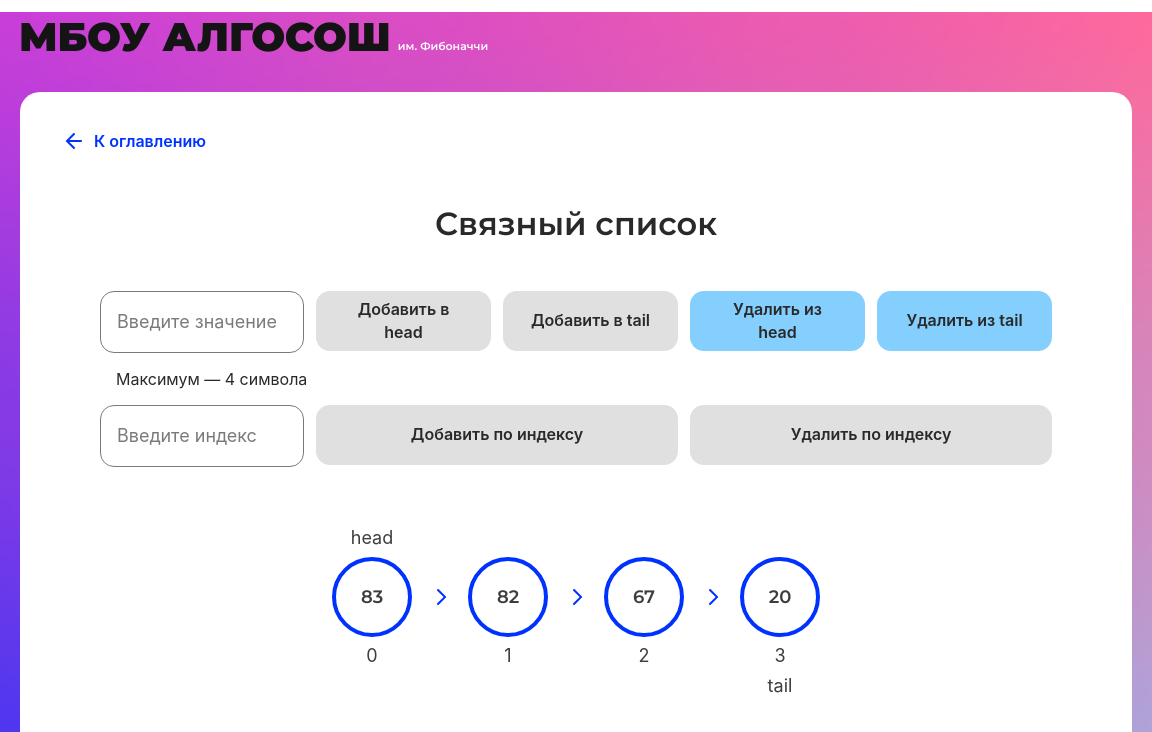
Test case: list › add element to head
Expected: the heading "Связный список" is shown, left=435, top=204, right=717, bottom=243
Type "1" into the field with test id "listInputEl" at (202, 322), box left=100, top=291, right=304, bottom=353
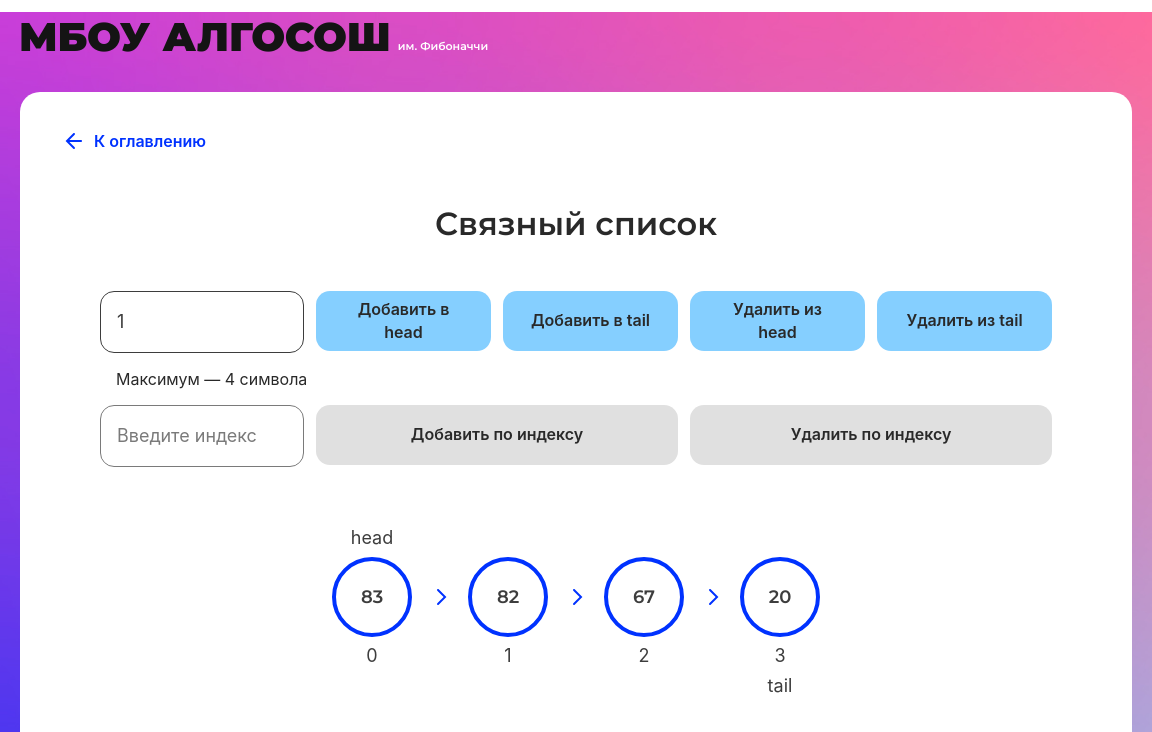
Click the button with test id "listButtonAddHead" at (404, 321), box left=316, top=291, right=491, bottom=351
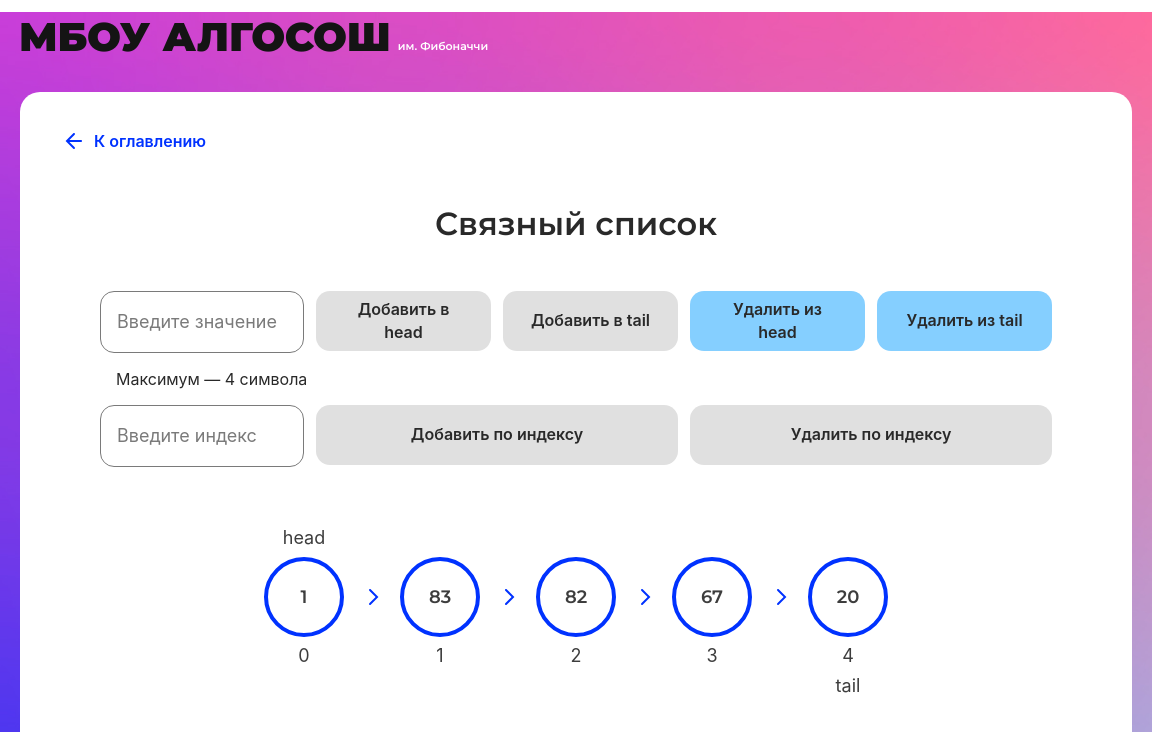
Expected: the text "head" is shown, left=283, top=527, right=325, bottom=549
Now the element with test id "stringCircle" reads "1", box left=264, top=557, right=344, bottom=637
